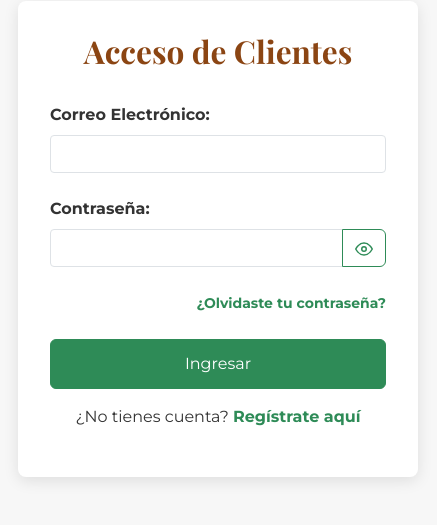
Página LoginPage › debería mostrar un mensaje de error con credenciales incorrectas
Click the button "Ingresar": (218, 364) [50,339,386,389]
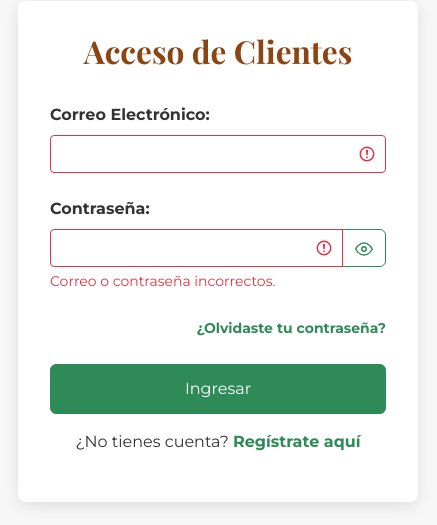
Result: the text "Correo o contraseña incorrectos." is shown at [50,272,276,290]
